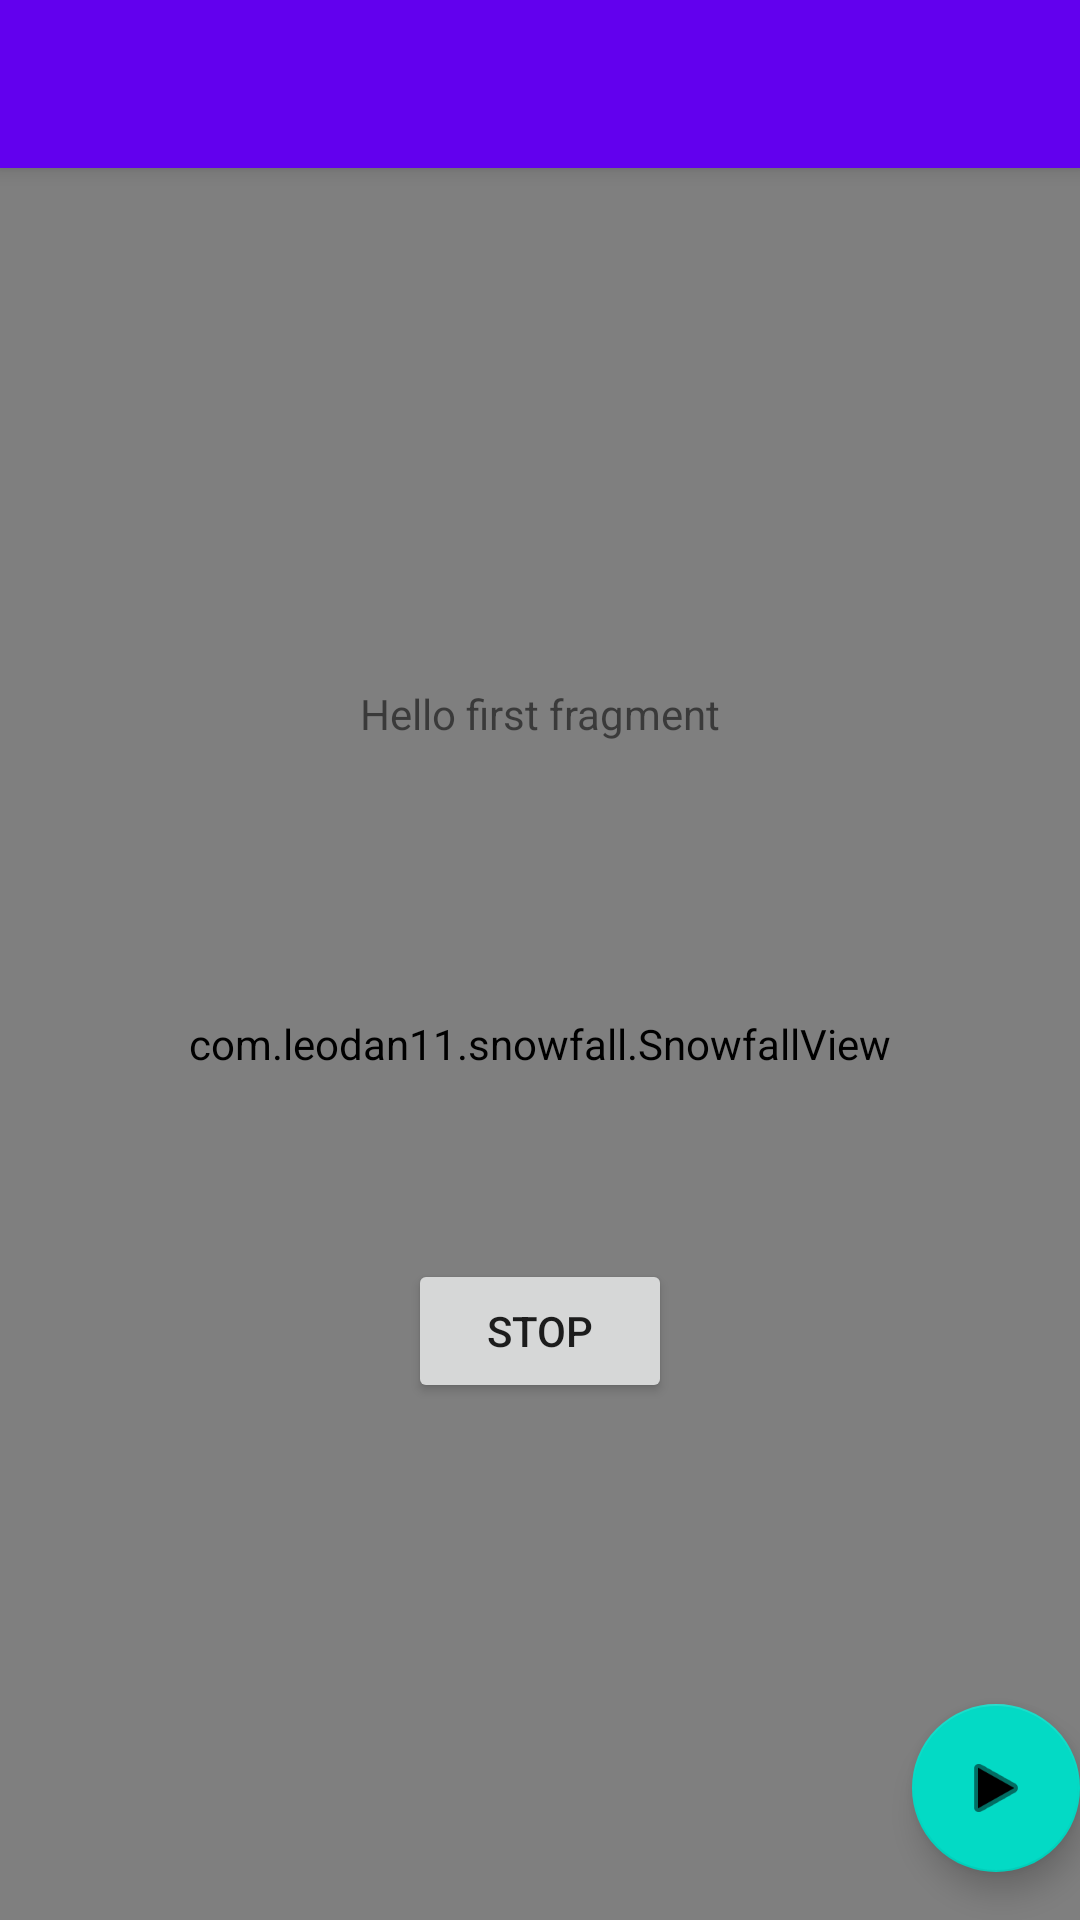

Locate icon controls on the screen. Image size 1080 x 1920, boxes as (x1, y1, x2, y2).
play: (912, 1704, 1080, 1872)
